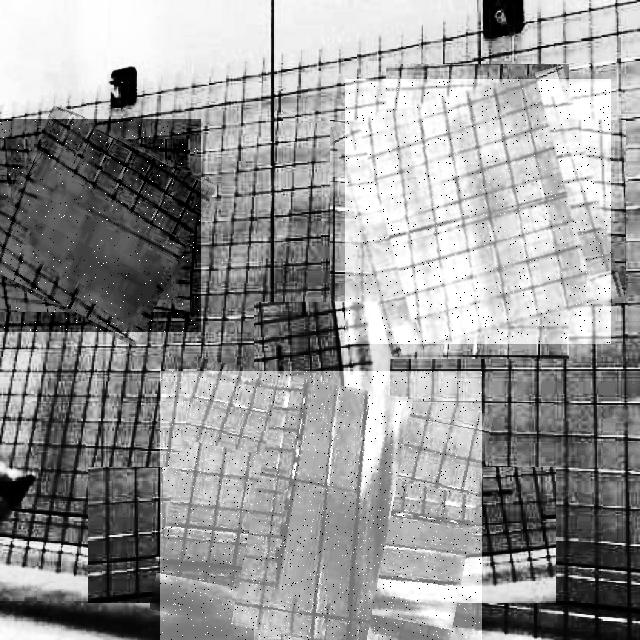anomaly-fence: (160, 371, 482, 640), (0, 119, 201, 332)
fences: (345, 79, 611, 344)
